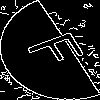F: (25, 25, 97, 73)
